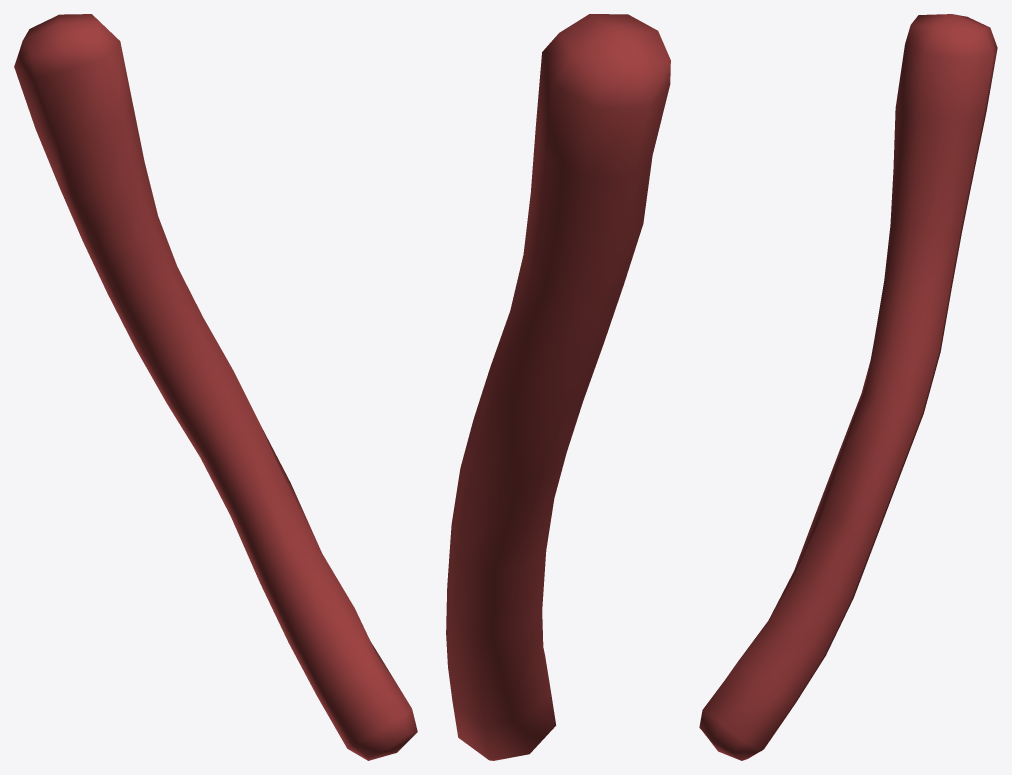
File: tendon-sheath-of-tibialis-anterior-r.glb
The picture shows the model from 3 angles, left to right: view 1: azimuth 30°, elevation 25°; view 2: azimuth 150°, elevation 25°; view 3: azimuth 270°, elevation 25°; orthographic projection. The views are drawn at different scales.
Visible parts, largest first — view 1: Tendon sheath of tibialis anterior.r; view 2: Tendon sheath of tibialis anterior.r; view 3: Tendon sheath of tibialis anterior.r.
Boxes of the visible parts, x1,y1,x2,y2 form: Tendon sheath of tibialis anterior.r: [14, 14, 417, 760]; Tendon sheath of tibialis anterior.r: [446, 14, 670, 760]; Tendon sheath of tibialis anterior.r: [699, 14, 997, 760].
Bounding box in the file's own units: 0.0301 × 0.0731 × 0.0303.
